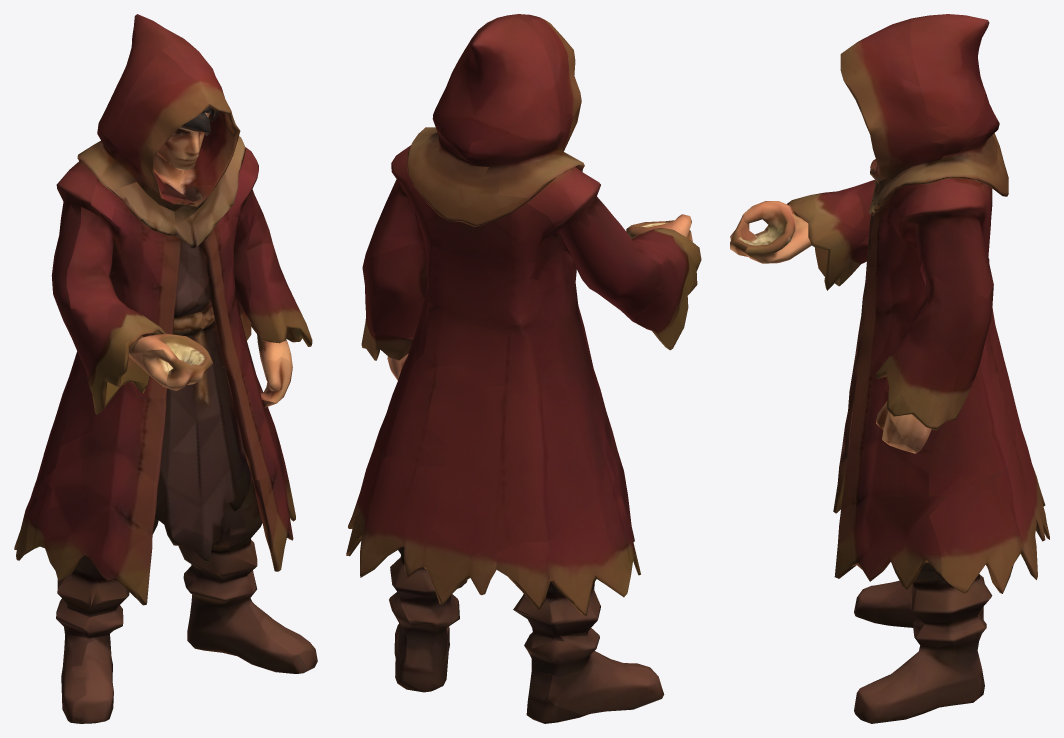
File: npc_mysterious_merchant.glb
The picture shows the model from 3 angles, left to right: view 1: azimuth 30°, elevation 25°; view 2: azimuth 150°, elevation 25°; view 3: azimuth 270°, elevation 25°; orthographic projection. The views are drawn at different scales.
Parts seen in each view (by area): view 1: mesh_node; view 2: mesh_node; view 3: mesh_node.
Boxes of the visible parts, x1,y1,x2,y2 form: mesh_node: [14, 14, 317, 723]; mesh_node: [346, 14, 701, 723]; mesh_node: [730, 14, 1049, 723].
Bounding box in the file's own units: 0.8337 × 1.91 × 0.8493.
Materials: 1 (1 with a texture image).
